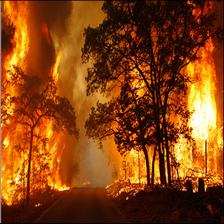fire: (98, 16, 219, 195), (2, 5, 76, 192)
